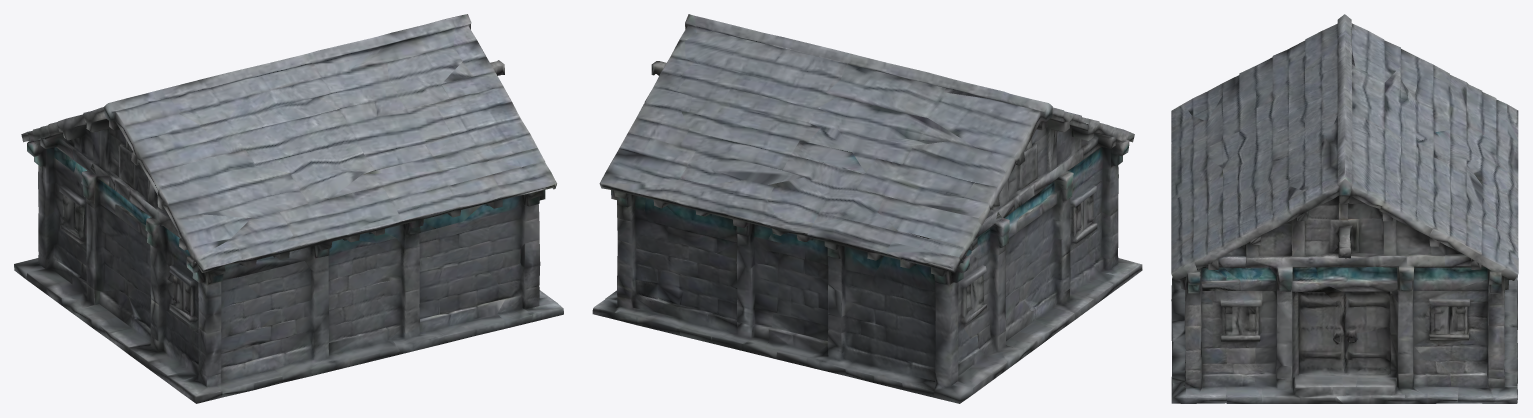
Rendered from storage_stone.glb.
3 views of the same model, side by side, from view 1: azimuth 30°, elevation 25°; view 2: azimuth 150°, elevation 25°; view 3: azimuth 270°, elevation 25° (orthographic). The views are drawn at different scales.
Parts seen in each view (by area): view 1: tripo_node_7504627e-7c02-42c5-9025-146cff53eb61; view 2: tripo_node_7504627e-7c02-42c5-9025-146cff53eb61; view 3: tripo_node_7504627e-7c02-42c5-9025-146cff53eb61.
Boxes of the visible parts, x1=… form: tripo_node_7504627e-7c02-42c5-9025-146cff53eb61: x1=14, y1=14, x2=563, y2=403; tripo_node_7504627e-7c02-42c5-9025-146cff53eb61: x1=592, y1=14, x2=1142, y2=403; tripo_node_7504627e-7c02-42c5-9025-146cff53eb61: x1=1171, y1=14, x2=1518, y2=403.
Bounding box in the file's own units: 0.9783 × 0.551 × 0.7796.
1 material, 1 textured.
